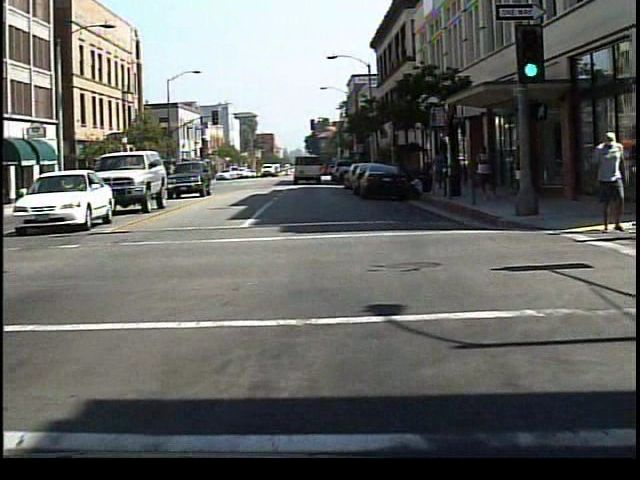person: (583, 130, 630, 236), (473, 141, 504, 205)
